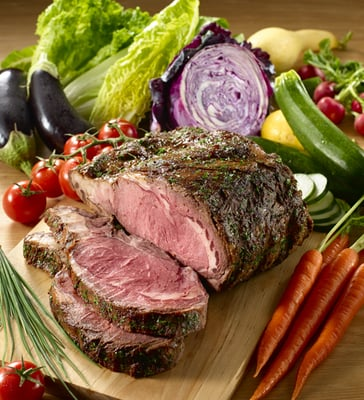curry: (2, 0, 205, 148)
soup: (49, 231, 209, 379)
